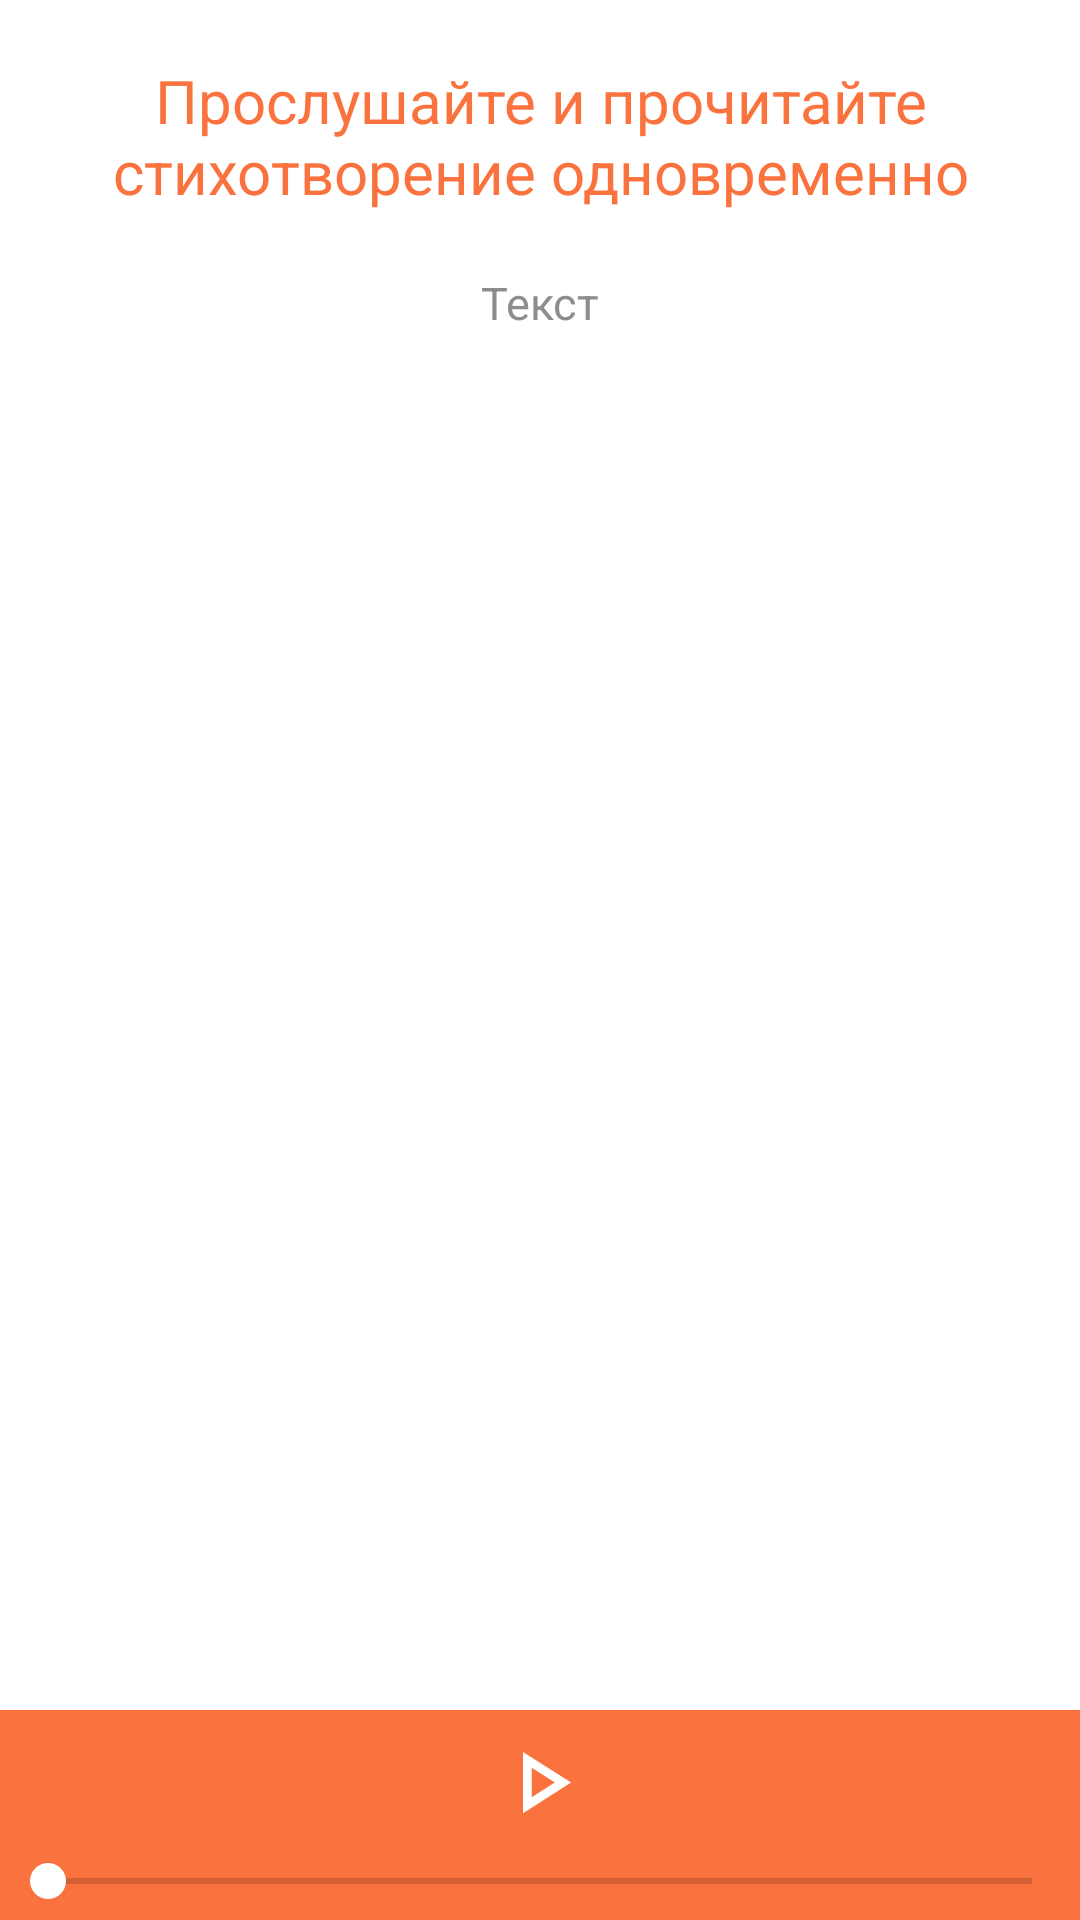

Icon click points for this 1080w x 1920h phone screenshot, format (x,y):
play: (547,1782)
